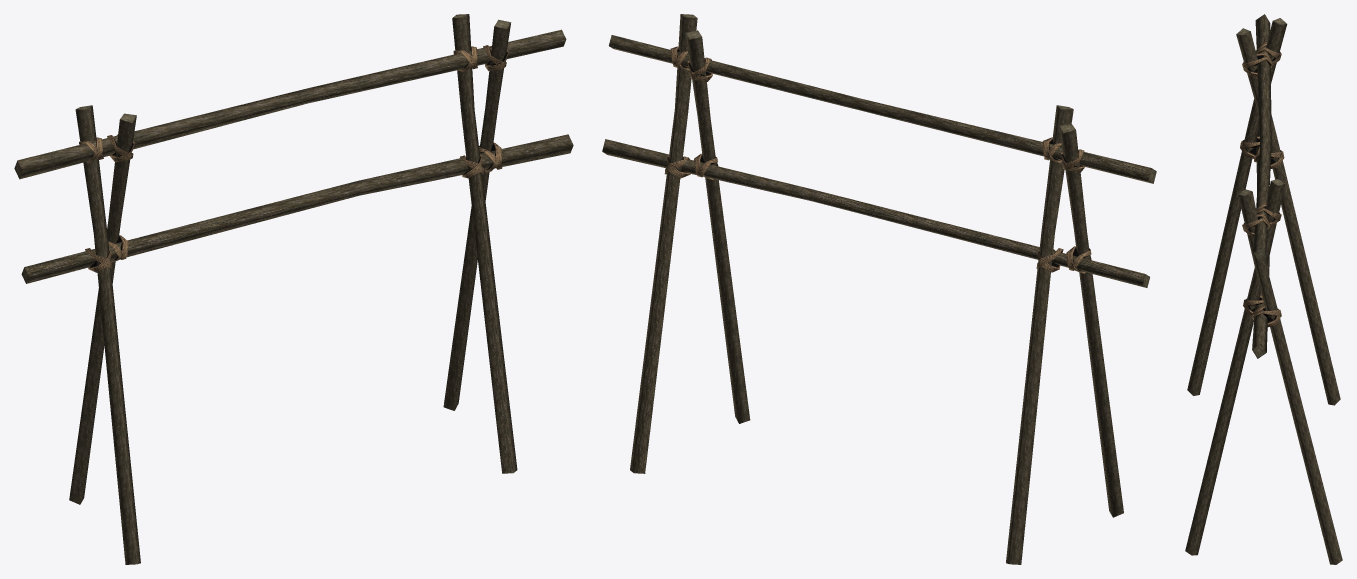
Rendered from thm_dant_fence_4m_l1.fbx.
The picture shows the model from 3 angles, left to right: view 1: azimuth 30°, elevation 25°; view 2: azimuth 150°, elevation 25°; view 3: azimuth 270°, elevation 25°; orthographic projection. The views are drawn at different scales.
Parts seen in each view (by area): view 1: mesh_node; view 2: mesh_node; view 3: mesh_node.
Part boxes in pixels (x1,y1,x2,y2): mesh_node: [14, 14, 573, 564]; mesh_node: [602, 14, 1156, 564]; mesh_node: [1185, 14, 1342, 564].
Bounding box in the file's own units: 3.97 × 2.95 × 1.12.
